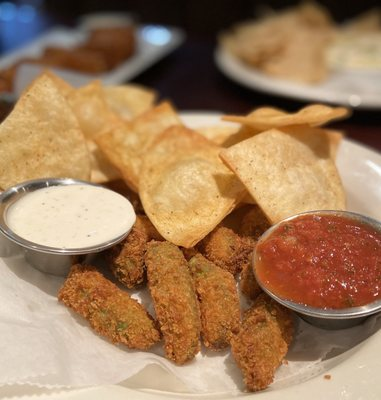sushi: (252, 209, 381, 331), (0, 177, 136, 276)
